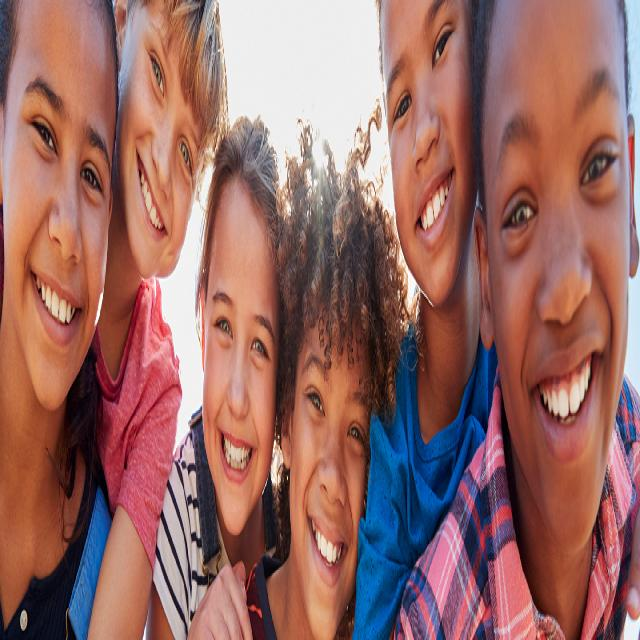child: (399, 1, 640, 640), (356, 0, 494, 640), (86, 0, 220, 640), (240, 146, 402, 640), (1, 0, 115, 640), (146, 120, 283, 640)
